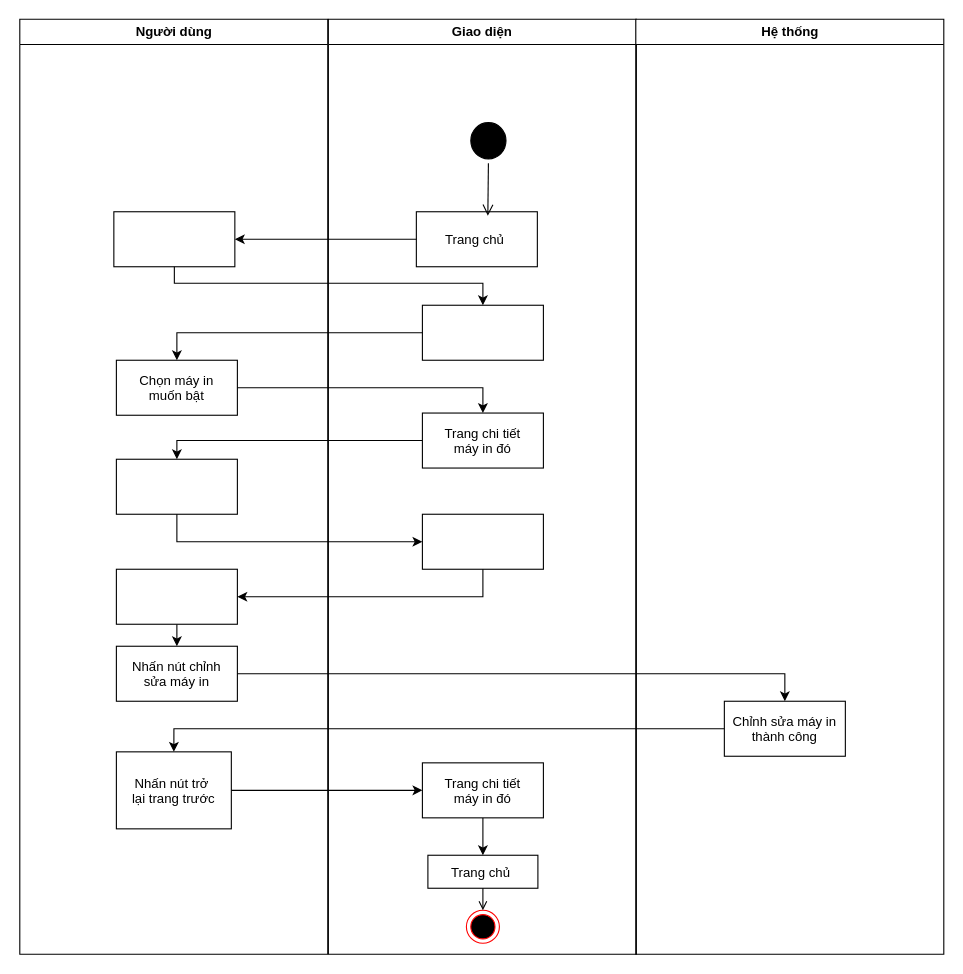
The diagram is 963 pixels wide and 974 high, and some of its shapes have lost their labels. Here are the shapes that lost their labels. From the top down, the centre of each, then its label:
the point at 174,239: Nhấn nút trang máy in
the point at 482,332: Trang danh sách máy in
the point at 176,486: Nhấn nút sửa máy in
the point at 482,541: Form chỉnh sửa máy in
the point at 176,596: Chọn trạng thái đang hoạt động
